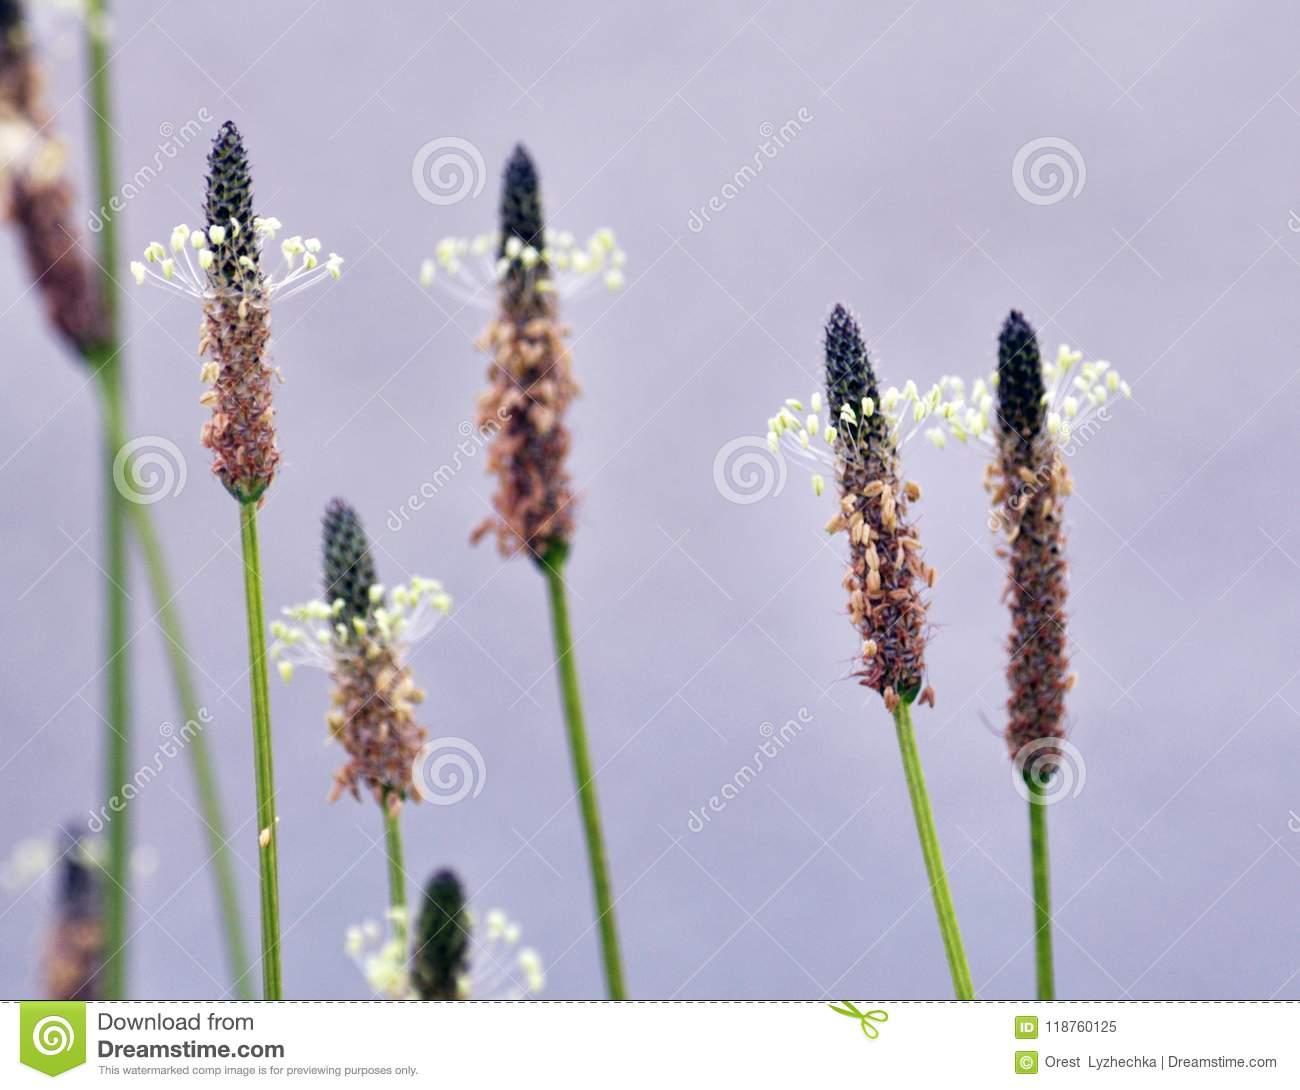buckhorn plantain: (6, 6, 1105, 991)
